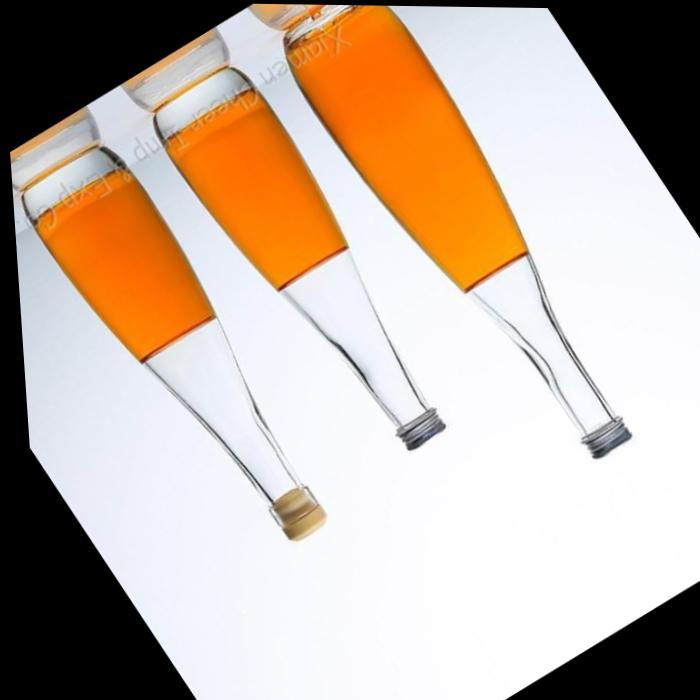glass: (283, 7, 628, 457), (14, 142, 324, 538), (155, 68, 442, 448)
